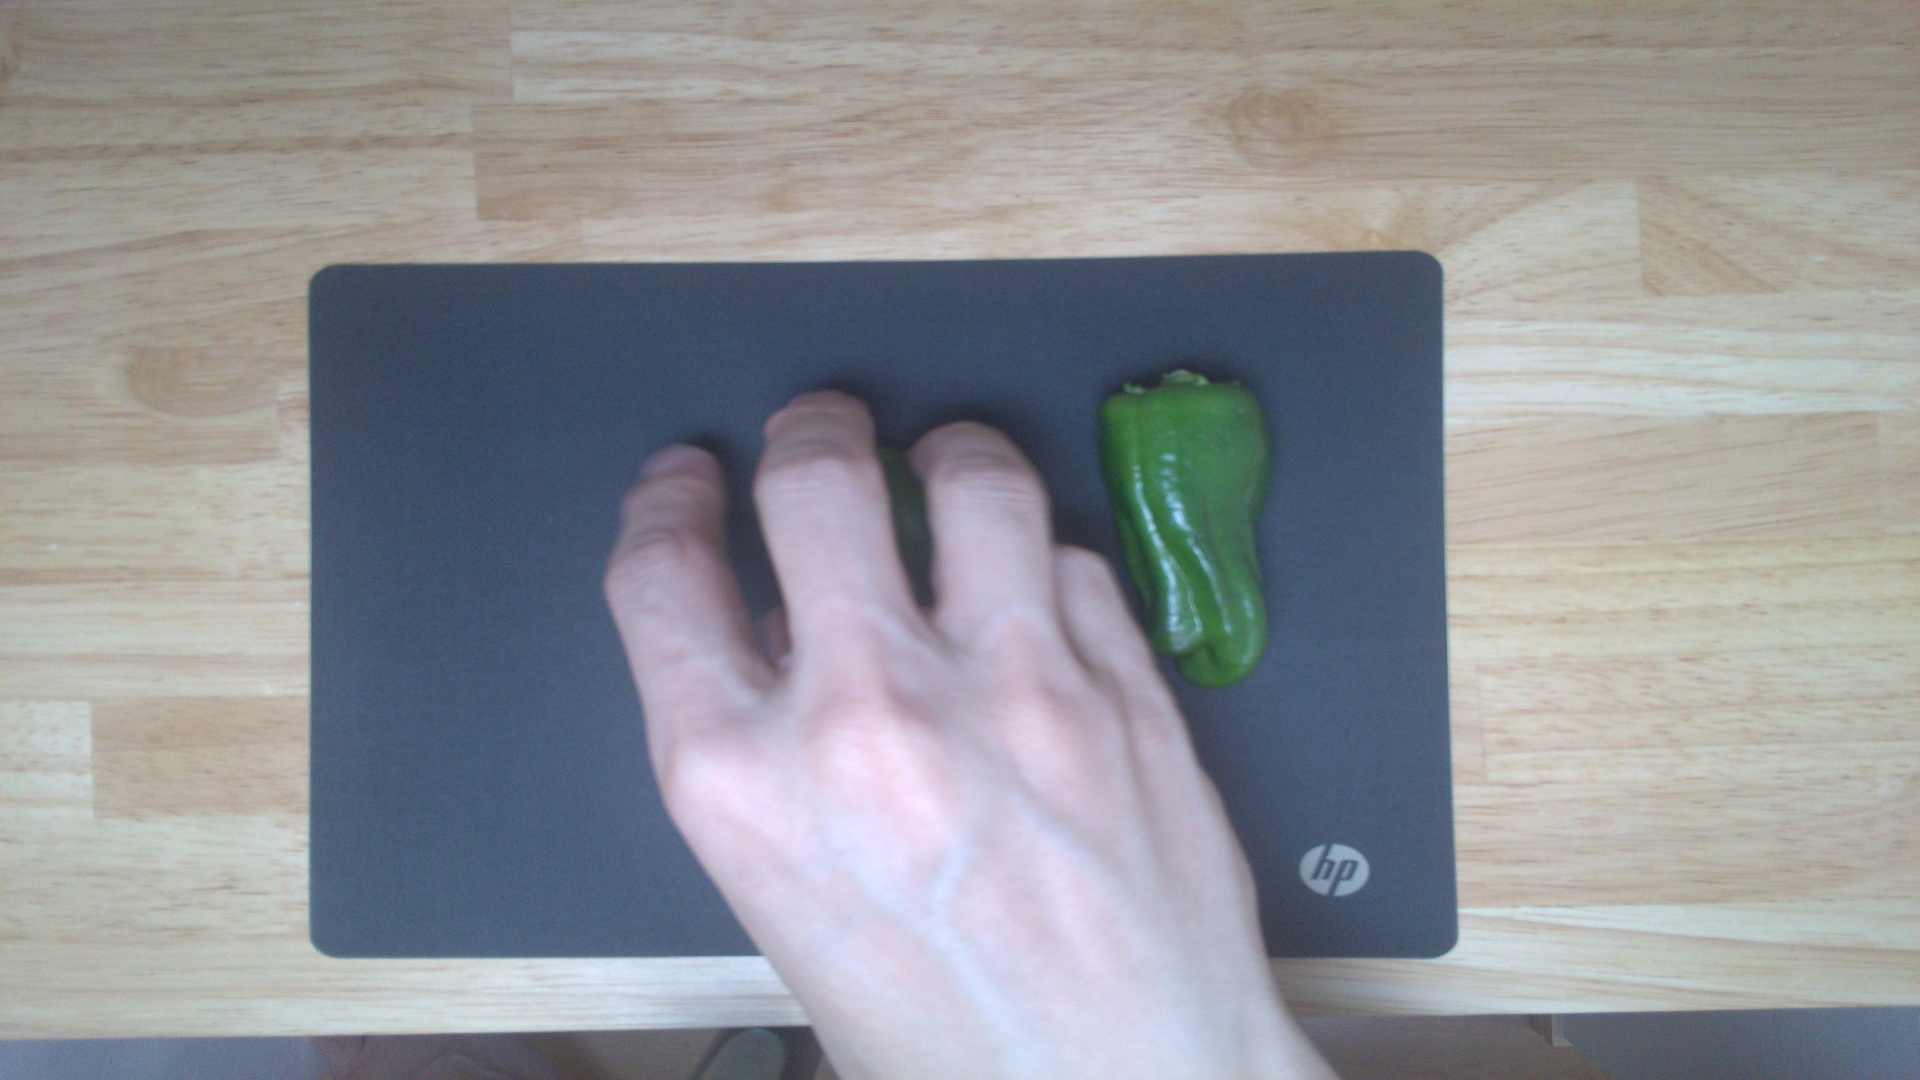Piman: (1093, 363, 1280, 691)
